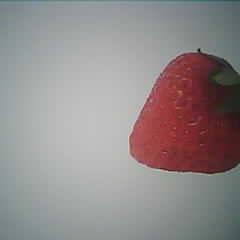straw-ripe: (128, 53, 240, 172)
